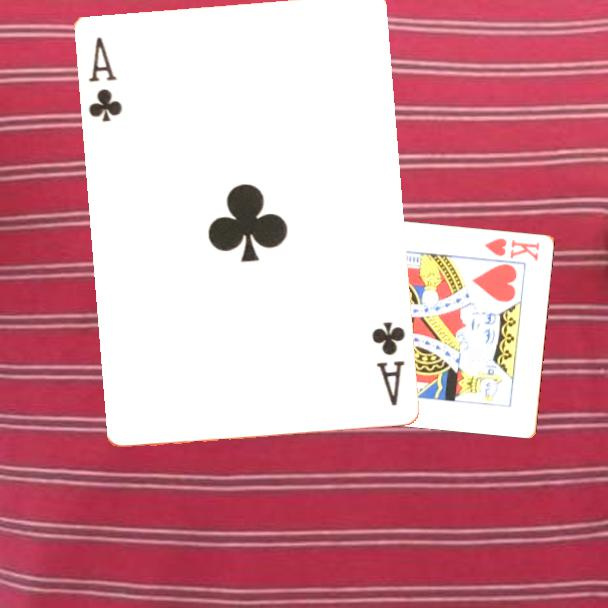c01: (84, 33, 125, 125), (367, 317, 408, 409)
h13: (481, 234, 542, 263)
